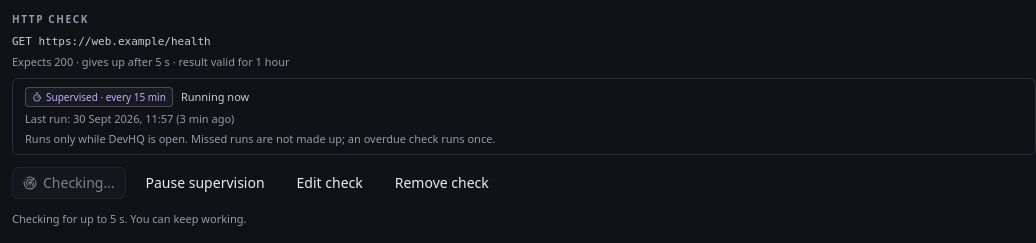
Scenario: supervision of a check › shows a scheduled run in progress and says a pause lets it finish
expect the button "Checking…" is disabled: met, box left=12, top=167, right=126, bottom=199
expect the text "Running now" is shown: met, box left=181, top=89, right=249, bottom=105
Click the button "Pause supervision" at (205, 183), box left=134, top=167, right=276, bottom=199
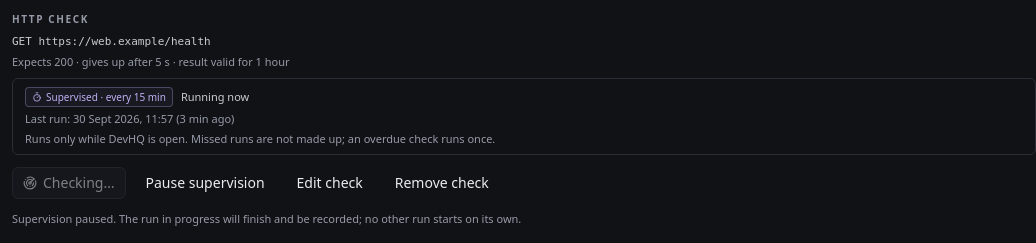
expect the message shows "Supervision paused. The run in progress will finish and be recorded; no other run starts on its own.": met, box left=12, top=211, right=521, bottom=226
